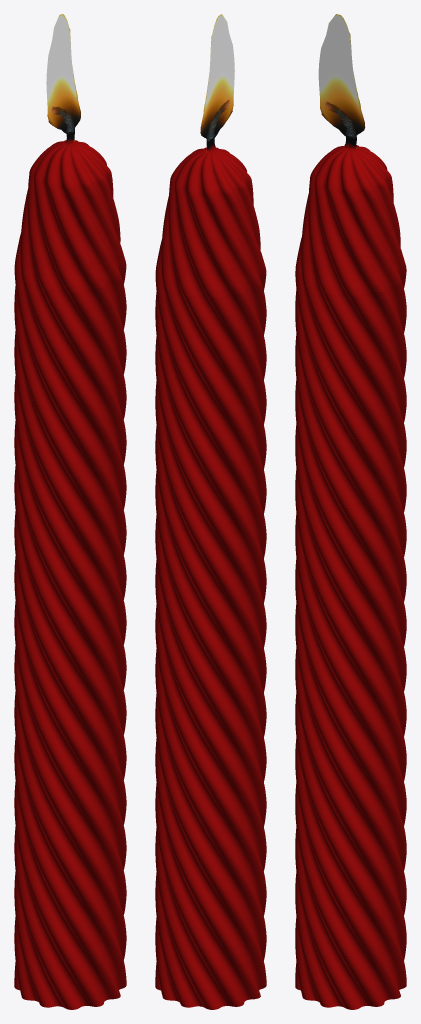
File: Twisted+and+fluted+candle.dae
The picture shows the model from 3 angles, left to right: view 1: azimuth 30°, elevation 25°; view 2: azimuth 210°, elevation 25°; view 3: azimuth 330°, elevation 25°; orthographic projection.
Parts seen in each view (by area): view 1: Component_4 (×238), Component_5, Component_10, Component_6; view 2: Component_4 (×238), Component_5, Component_10, Component_6; view 3: Component_4 (×238), Component_5, Component_10, Component_6.
Part boxes in pixels (x1,y1,x2,y2): Component_4 (×238): (14, 270, 126, 1009); Component_5: (14, 140, 126, 291); Component_10: (46, 14, 80, 145); Component_6: (14, 268, 126, 294); Component_4 (×238): (155, 276, 266, 1009); Component_5: (155, 147, 266, 297); Component_10: (200, 14, 234, 152); Component_6: (155, 274, 266, 300); Component_4 (×238): (295, 274, 406, 1009); Component_5: (295, 145, 406, 295); Component_10: (318, 14, 365, 149); Component_6: (295, 271, 406, 298).
Size of the model in its own units: 57.35 by 57.35 by 551.
Materials: 2 (1 with a texture image).
